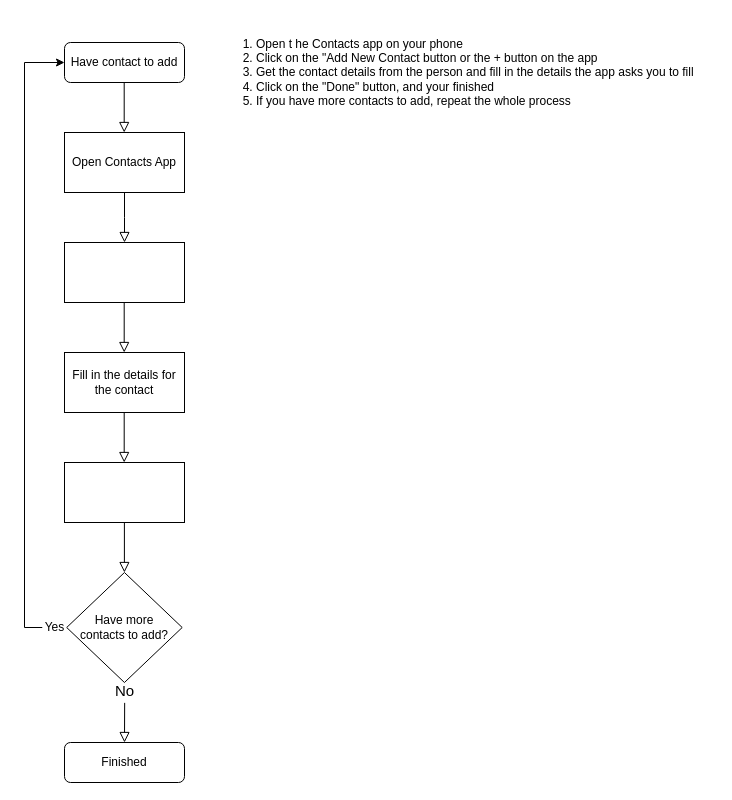
Image size: 732x800. Some labels were removed from this diagram. The shapes that lost their labels are listed below. From the top down, each one's centre as x and y in pixels, then its label:
[124,272]: Click "Add New Contact" or the + symbol
[124,492]: Click "Done"
